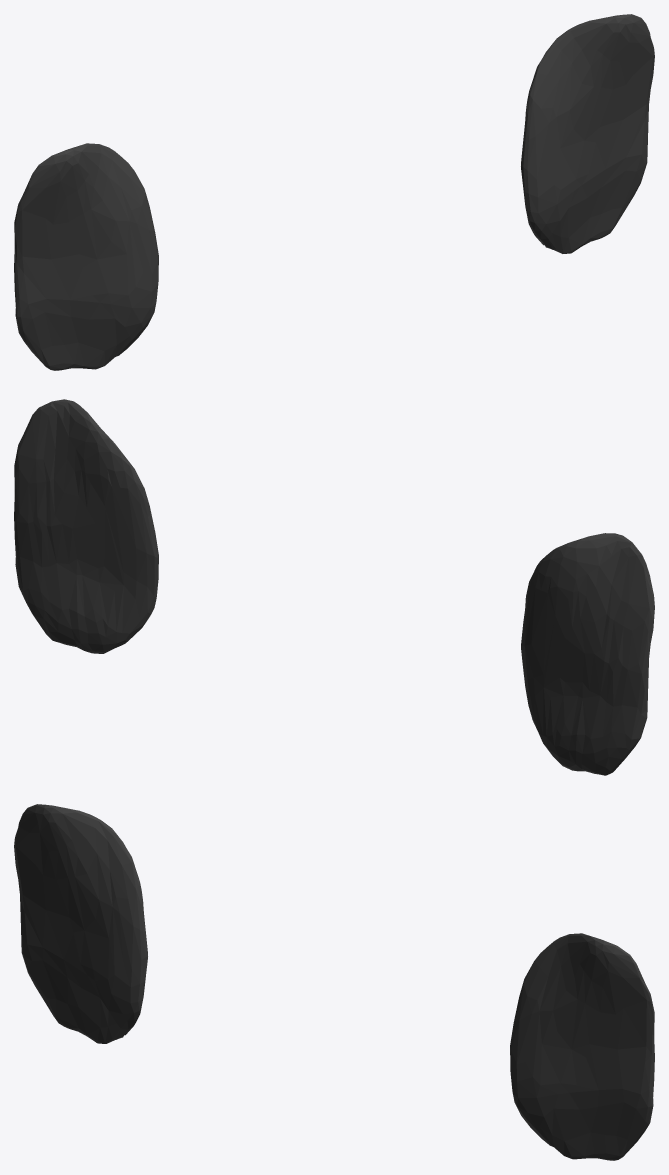
Rendered from lig_carpal_palmar.glb.
The picture shows the model from 3 angles, top to bottom: view 1: azimuth 30°, elevation 25°; view 2: azimuth 150°, elevation 25°; view 3: azimuth 330°, elevation 25°; orthographic projection.
Visible parts, largest first — view 1: lig_carpal_palmar; view 2: lig_carpal_palmar; view 3: lig_carpal_palmar.
Boxes of the visible parts, bbox=[...] form: lig_carpal_palmar: bbox=[14, 14, 654, 370]; lig_carpal_palmar: bbox=[14, 399, 654, 775]; lig_carpal_palmar: bbox=[14, 804, 654, 1160].
Size of the model in its own units: 0.00425 by 0.0015 by 0.000236.
1 material, 1 textured.
